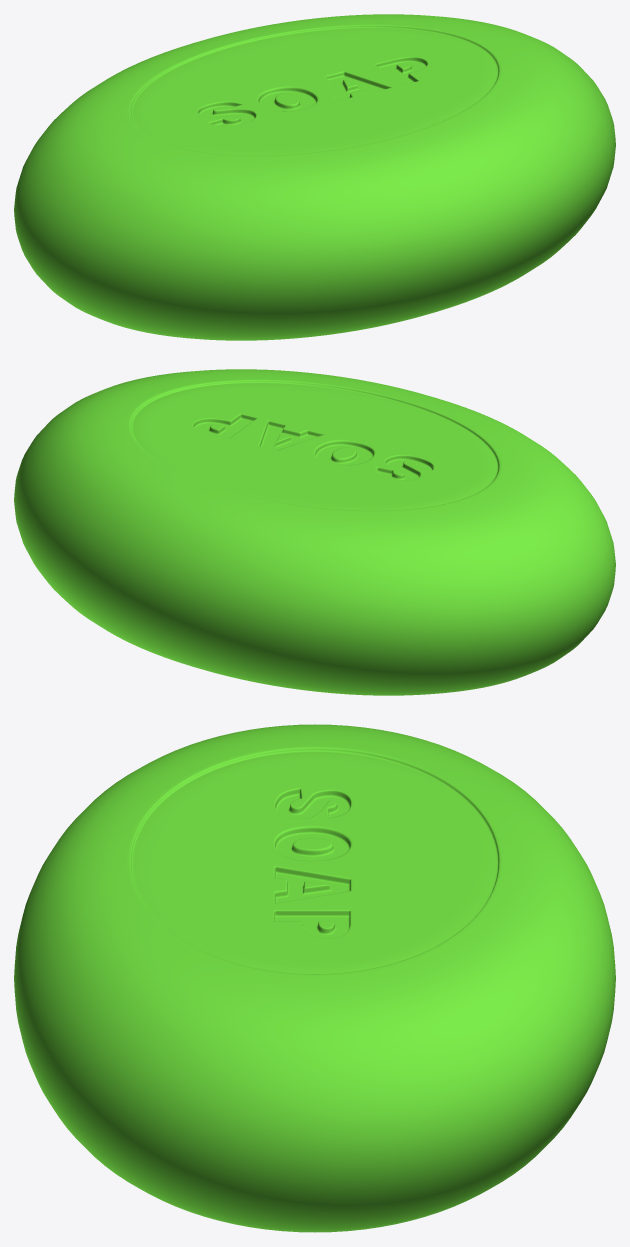
The model's file is soap_2.fbx.
3 renders of one model, top to bottom at view 1: azimuth 30°, elevation 25°; view 2: azimuth 150°, elevation 25°; view 3: azimuth 270°, elevation 25°, orthographic. The views are drawn at different scales.
Parts seen in each view (by area): view 1: 16878_bar_of_soap_V1; view 2: 16878_bar_of_soap_V1; view 3: 16878_bar_of_soap_V1.
Part boxes in pixels (x1,y1,x2,y2): 16878_bar_of_soap_V1: [14, 14, 615, 340]; 16878_bar_of_soap_V1: [14, 369, 615, 695]; 16878_bar_of_soap_V1: [14, 724, 615, 1232].
Size of the model in its own units: 828 by 246 by 571.
